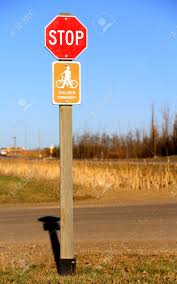stop_sign: (45, 15, 88, 60)
